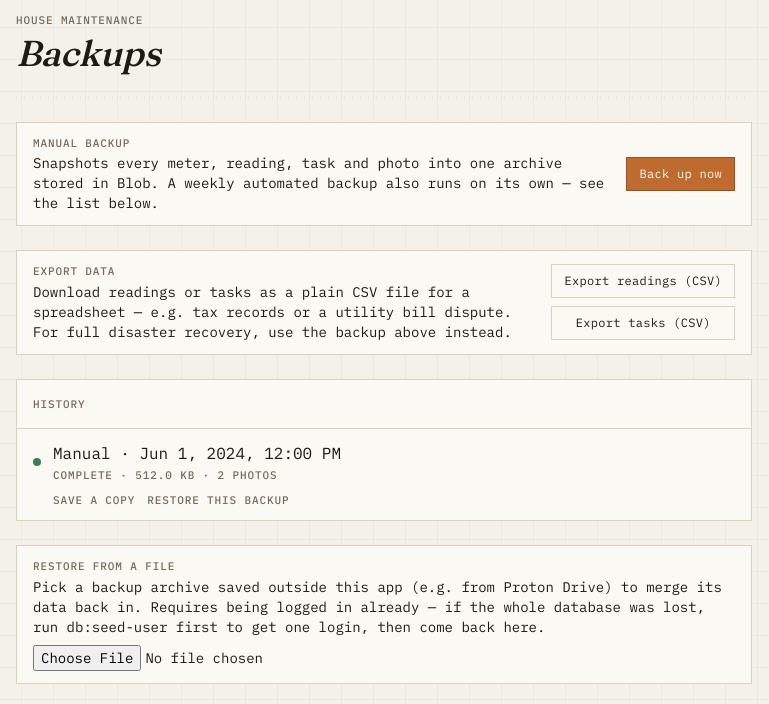
Scenario: Backups › restores a backup after confirmation and reports the summary
What coordinates should you click on to do the following:
click the button "Restore this backup"
I would click on:
 (218, 500)
Its box is [147,492,289,508].
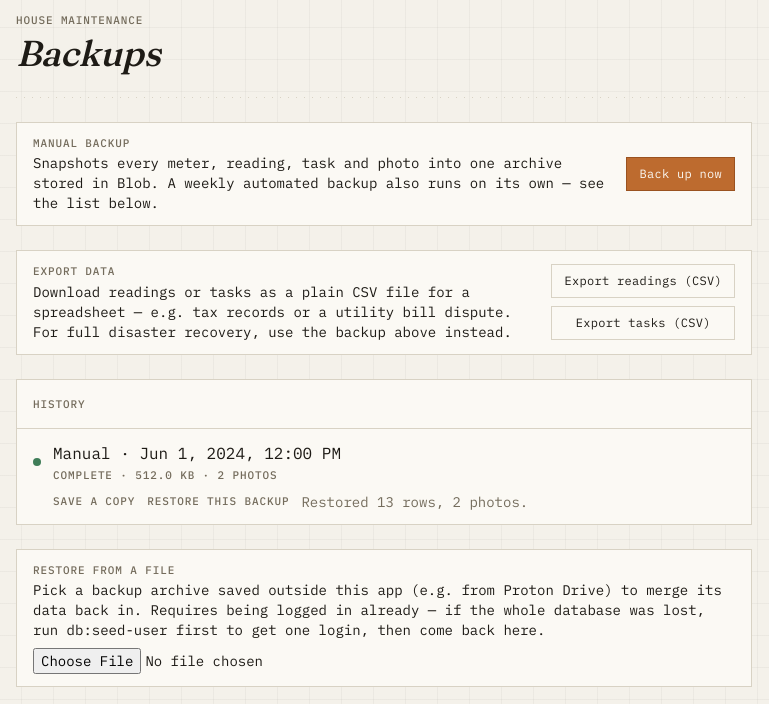
Result: the text "Restored 13 rows, 2 photos." is shown at [301,492,528,512]
